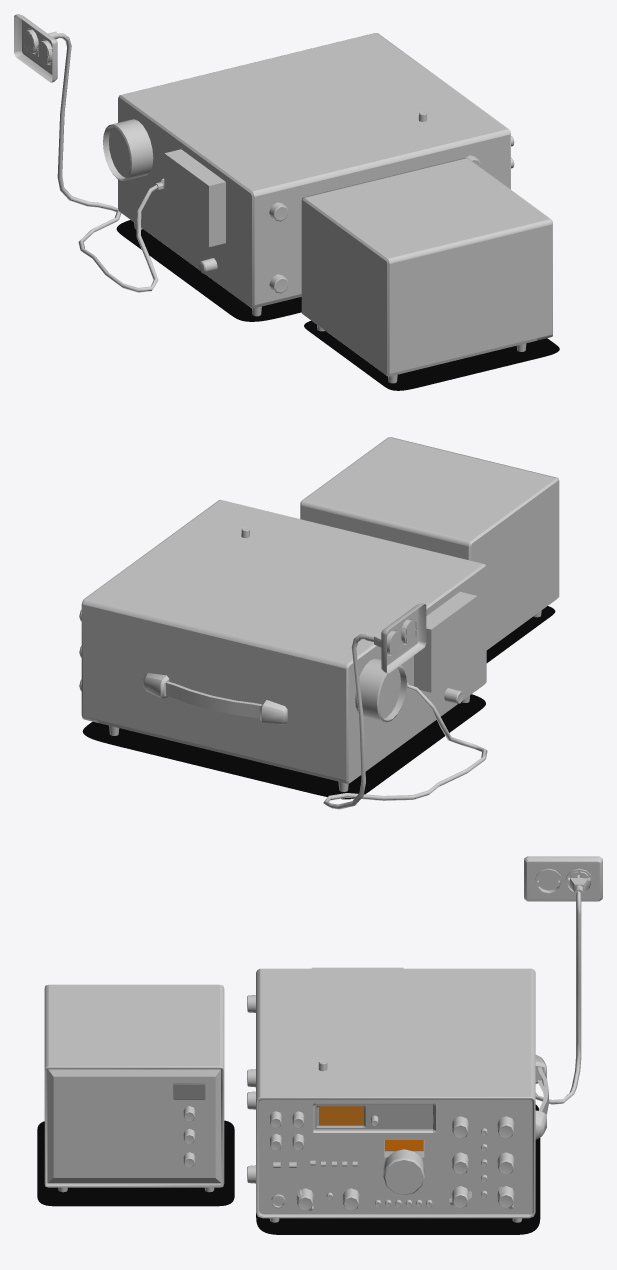
File: transciever.fbx
3 renders of one model, top to bottom at view 1: azimuth 30°, elevation 25°; view 2: azimuth 150°, elevation 25°; view 3: azimuth 270°, elevation 25°, orthographic. The views are drawn at different scales.
Parts seen in each view (by area): view 1: transciever, speaker, net_cable, speaker_shadow, shadow; view 2: transciever, speaker, shadow, net_cable, speaker_shadow; view 3: transciever, speaker, shadow, speaker_shadow, net_cable, light, plane.
Part boxes in pixels (<box>): transciever: <box>103,33,514,316</box>; speaker: <box>301,158,552,383</box>; net_cable: <box>14,14,164,292</box>; speaker_shadow: <box>304,320,559,390</box>; shadow: <box>116,220,301,321</box>; transciever: <box>79,499,486,791</box>; speaker: <box>300,437,559,650</box>; shadow: <box>82,694,485,799</box>; net_cable: <box>323,603,487,809</box>; speaker_shadow: <box>486,606,555,662</box>; transciever: <box>247,967,548,1222</box>; speaker: <box>44,984,224,1192</box>; shadow: <box>256,1104,540,1234</box>; speaker_shadow: <box>37,1120,234,1206</box>; net_cable: <box>524,856,602,1104</box>; light: <box>319,1106,363,1125</box>; plane: <box>384,1140,424,1157</box>.
Bounding box in the file's own units: 74.06 × 38.7 × 97.74.
